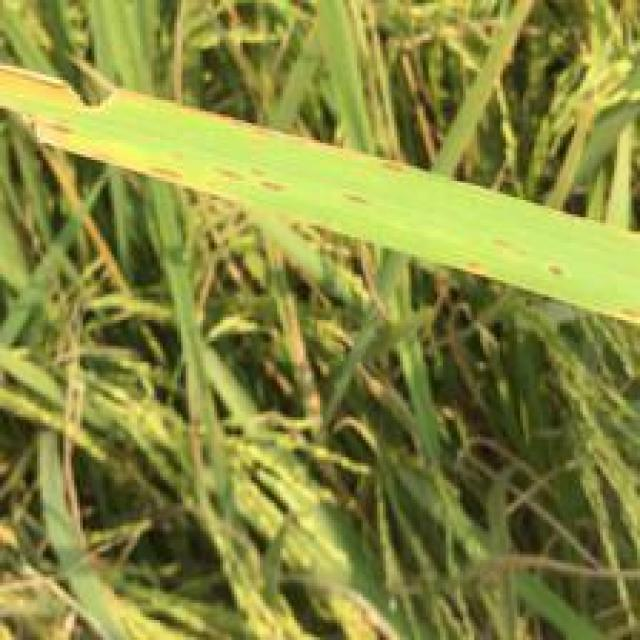Brown_Spot: (212, 148, 292, 192), (134, 149, 186, 180), (32, 109, 72, 137), (329, 186, 374, 206), (537, 254, 569, 280), (606, 297, 637, 323), (454, 252, 489, 274), (377, 152, 409, 174)
